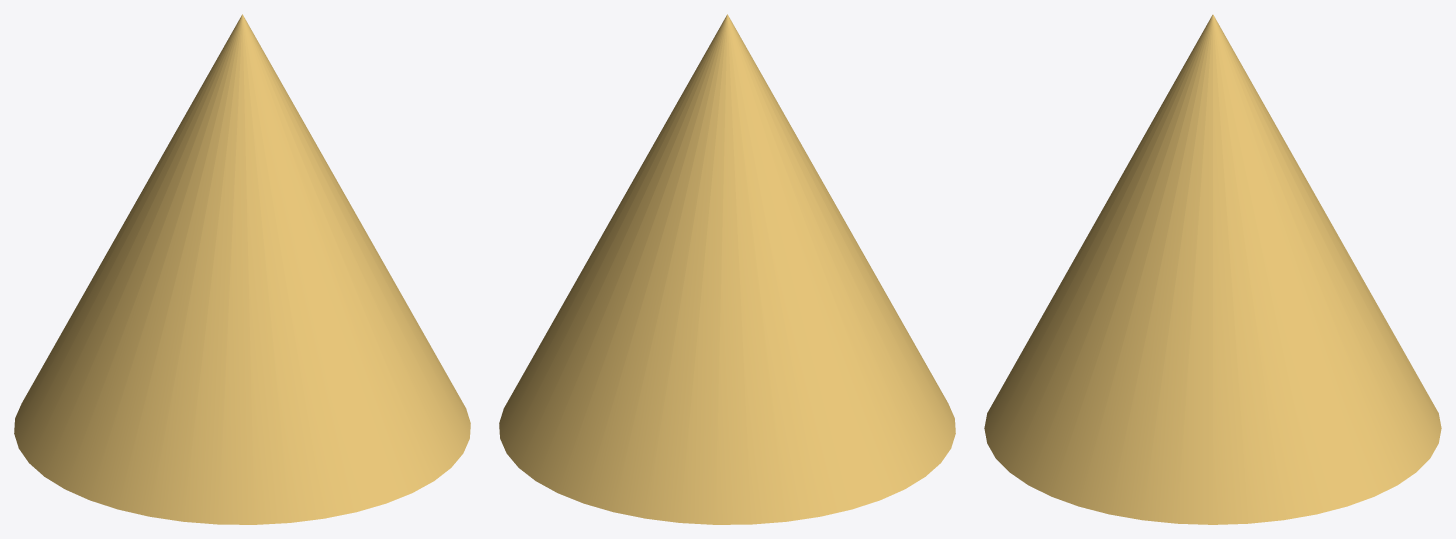
The picture shows the model from 3 angles, left to right: view 1: azimuth 30°, elevation 25°; view 2: azimuth 150°, elevation 25°; view 3: azimuth 270°, elevation 25°; orthographic projection.
Parts seen in each view (by area): view 1: spin; view 2: spin; view 3: spin.
Boxes of the visible parts, bbox=[...] form: spin: bbox=[14, 14, 470, 524]; spin: bbox=[499, 14, 955, 524]; spin: bbox=[984, 14, 1441, 524].
Size of the model in its own units: 2 by 2 by 2.
